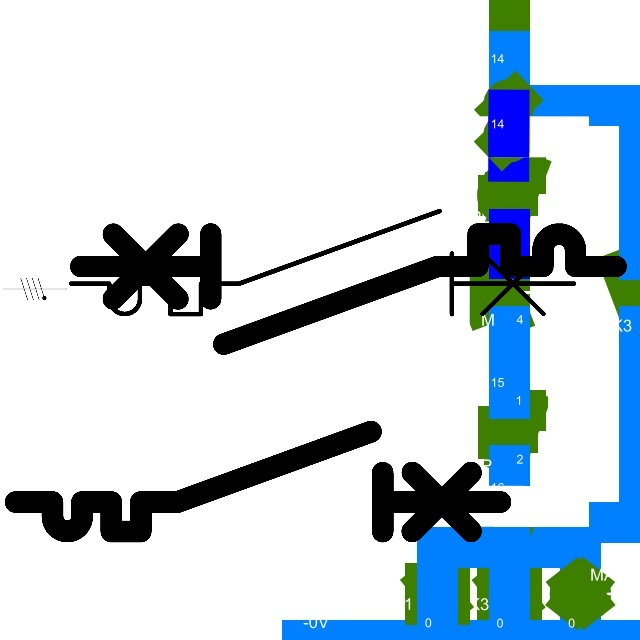interruptor_termomagnetico: (66, 220, 629, 358), (58, 198, 587, 327), (3, 419, 513, 544)
